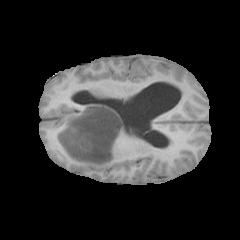glioma: (56, 104, 133, 170)
